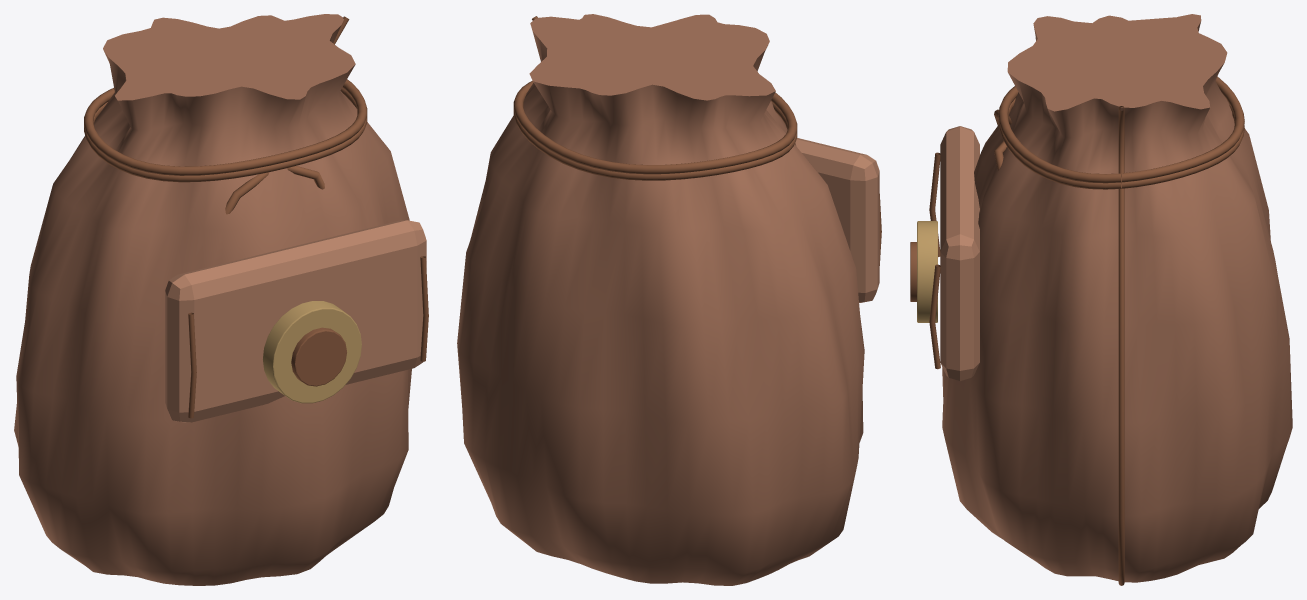
Rendered from bag3.glb.
The picture shows the model from 3 angles, left to right: view 1: azimuth 30°, elevation 25°; view 2: azimuth 150°, elevation 25°; view 3: azimuth 270°, elevation 25°; orthographic projection.
Parts seen in each view (by area): view 1: Russet leather, Rubbed front flap leather.001, Bound seam cord.002, Stamped clasp brass.001; view 2: Russet leather, Rubbed front flap leather.001, Bound seam cord.002; view 3: Russet leather, Bound seam cord.002, Rubbed front flap leather.001, Stamped clasp brass.001.
Boxes of the visible parts, x1,y1,x2,y2 form: Russet leather: [14, 14, 411, 585]; Rubbed front flap leather.001: [165, 220, 426, 422]; Bound seam cord.002: [84, 16, 428, 418]; Stamped clasp brass.001: [262, 301, 361, 403]; Russet leather: [457, 14, 864, 585]; Rubbed front flap leather.001: [795, 138, 879, 302]; Bound seam cord.002: [513, 16, 881, 265]; Russet leather: [942, 14, 1292, 582]; Bound seam cord.002: [910, 76, 1244, 585]; Rubbed front flap leather.001: [940, 126, 979, 380]; Stamped clasp brass.001: [917, 221, 937, 322].
Size of the model in its own units: 0.3709 by 0.4526 by 0.3294.
